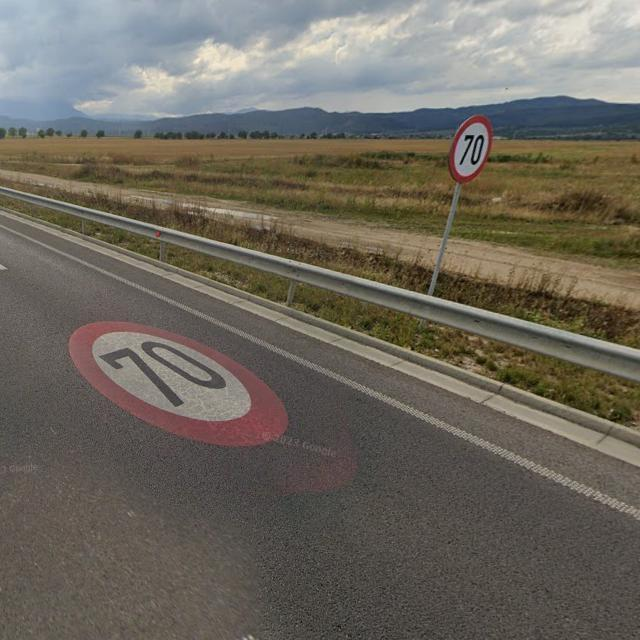forb_speed_over_70: (66, 319, 290, 449), (448, 115, 494, 180)
